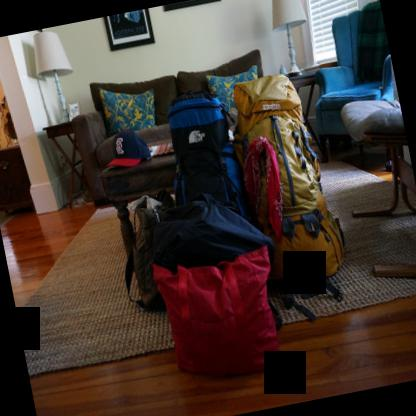backpack: (228, 75, 348, 288), (150, 201, 278, 377), (166, 86, 252, 222), (124, 187, 174, 311)
handbag: (147, 190, 282, 378)
suitcase: (167, 89, 230, 157)
